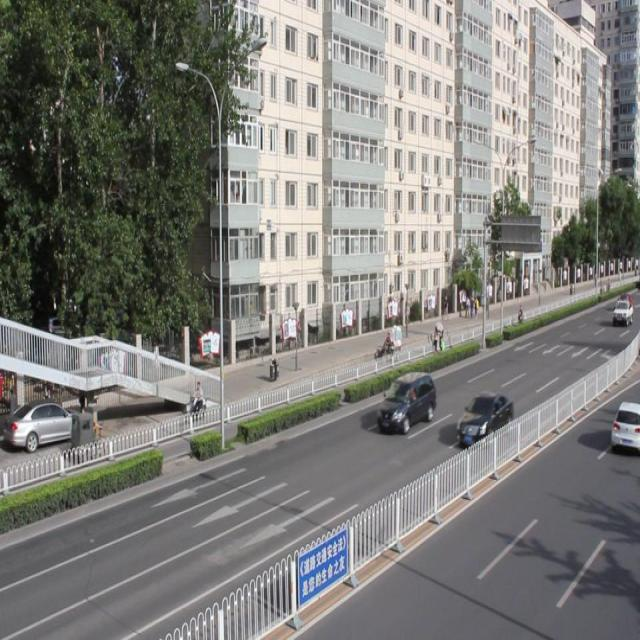car: (376, 370, 436, 434), (454, 389, 512, 448), (609, 398, 640, 450)
